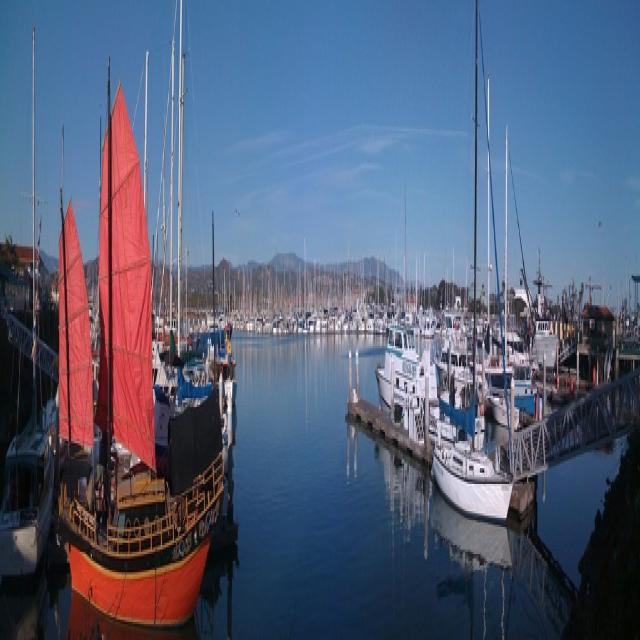Boat: (0, 0, 236, 639), (372, 0, 557, 525)
